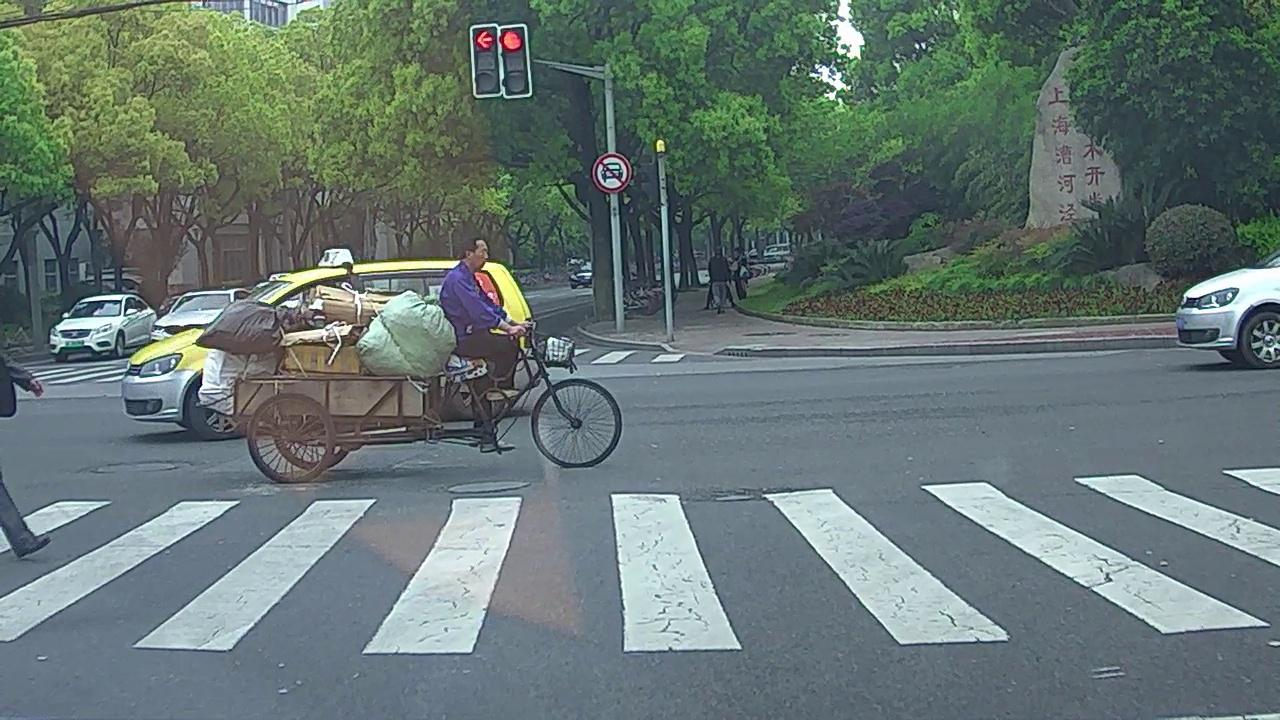traffic_light: (501, 28, 530, 95), (473, 27, 500, 93)
